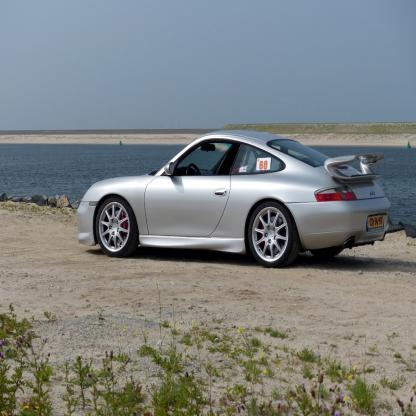Car: (75, 132, 392, 270)
